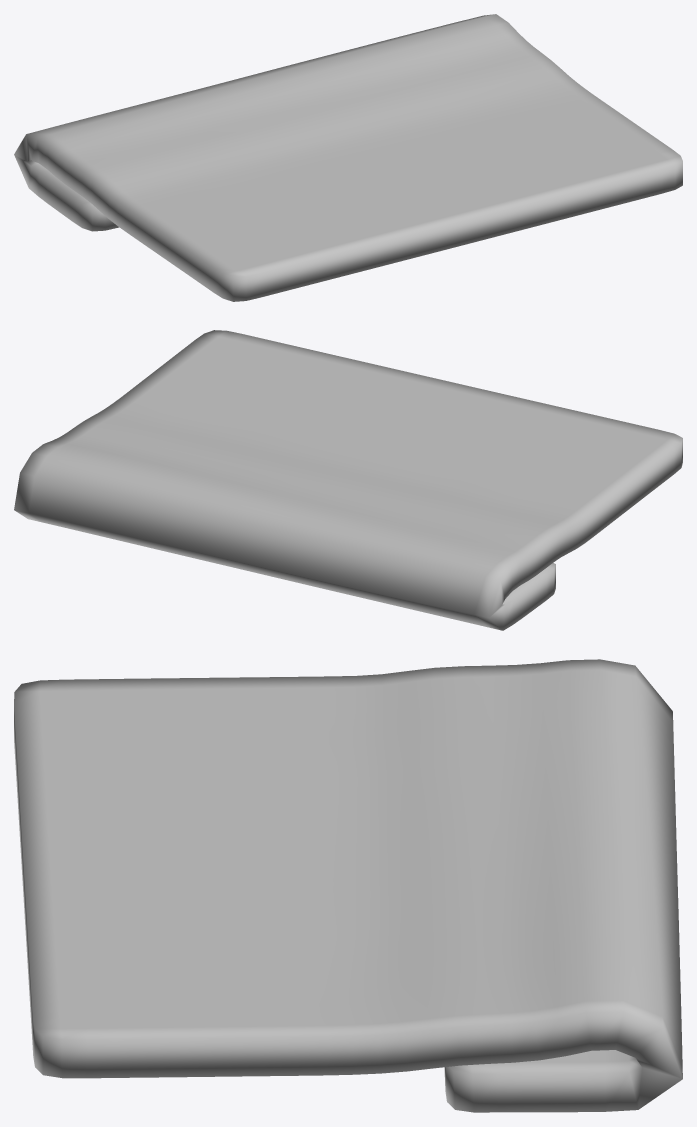
Rendered from Kainlipat.fbx.
3 renders of one model, top to bottom at view 1: azimuth 30°, elevation 25°; view 2: azimuth 150°, elevation 25°; view 3: azimuth 270°, elevation 25°, orthographic. The views are drawn at different scales.
Visible parts, largest first — view 1: Kainlipat_LOD0; view 2: Kainlipat_LOD0; view 3: Kainlipat_LOD0.
Part boxes in pixels (bbox=[...]): Kainlipat_LOD0: bbox=[14, 14, 682, 301]; Kainlipat_LOD0: bbox=[14, 330, 682, 630]; Kainlipat_LOD0: bbox=[14, 659, 682, 1112].
Size of what is drawn, in the model's own units: 118 by 15.29 by 91.14.
